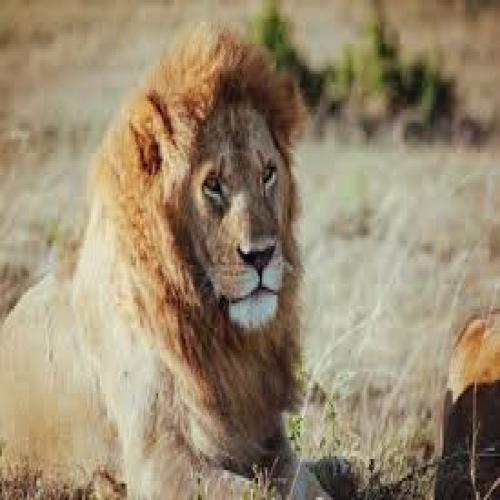lion-endangered: (0, 29, 305, 498)
